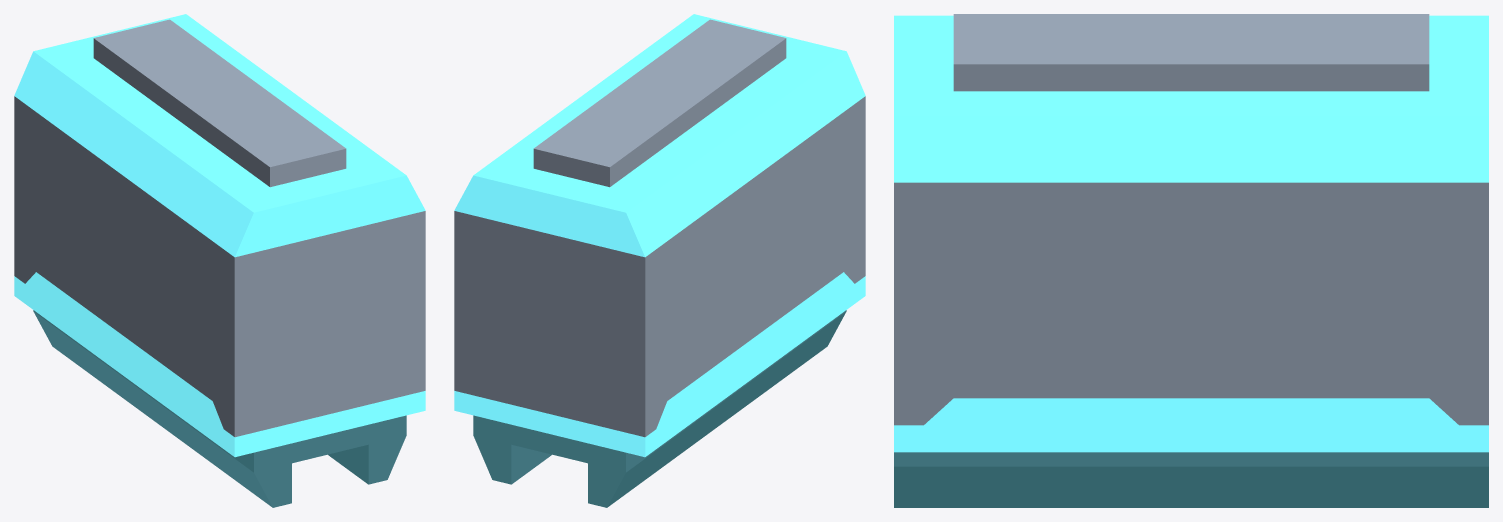
The model's file is monorail_trainBox.glb.
The picture shows the model from 3 angles, left to right: view 1: azimuth 30°, elevation 25°; view 2: azimuth 150°, elevation 25°; view 3: azimuth 270°, elevation 25°; orthographic projection. The views are drawn at different scales.
Parts seen in each view (by area): view 1: monorail_trainBox; view 2: monorail_trainBox; view 3: monorail_trainBox.
Part boxes in pixels (box(x1,y1,x2,y2)): monorail_trainBox: box(14, 14, 425, 507); monorail_trainBox: box(454, 14, 865, 507); monorail_trainBox: box(894, 14, 1488, 507).
Bounding box in the file's own units: 0.5 × 0.8 × 1.
